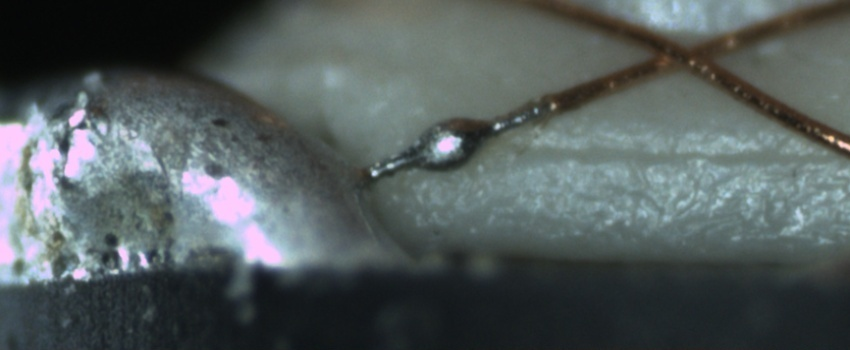CL: (634, 28, 731, 81)
DL: (516, 126, 849, 181)
TB: (408, 113, 493, 175)
TS: (367, 103, 547, 181)
TTCW: (362, 75, 609, 185)
